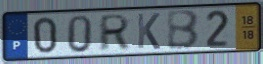0: (65, 14, 95, 54), (31, 16, 60, 55)
2: (204, 8, 231, 48)
B: (165, 8, 201, 51)
K: (135, 12, 162, 51)
R: (97, 13, 132, 53)
